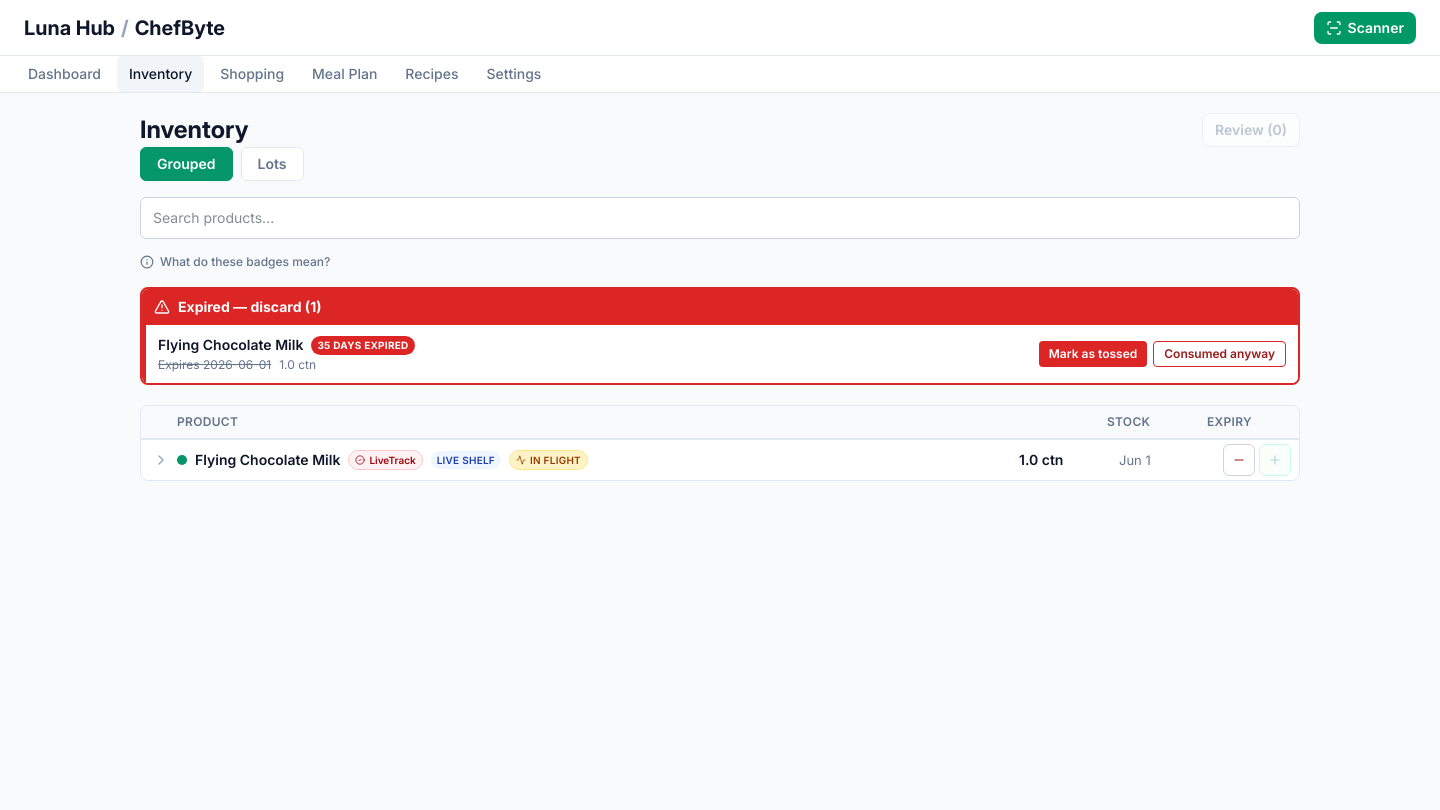
Test case: CloseInFlightModal — badge → modal flow › on RPC error: modal stays open and error message is rendered
The image size is (1440, 810).
Expected: the element with test id "inv-product-prod-flying" is shown, [141,440,1299,480]
Click the button with test id "inflight-badge".
click(548, 460)  # box [509,450,588,470]
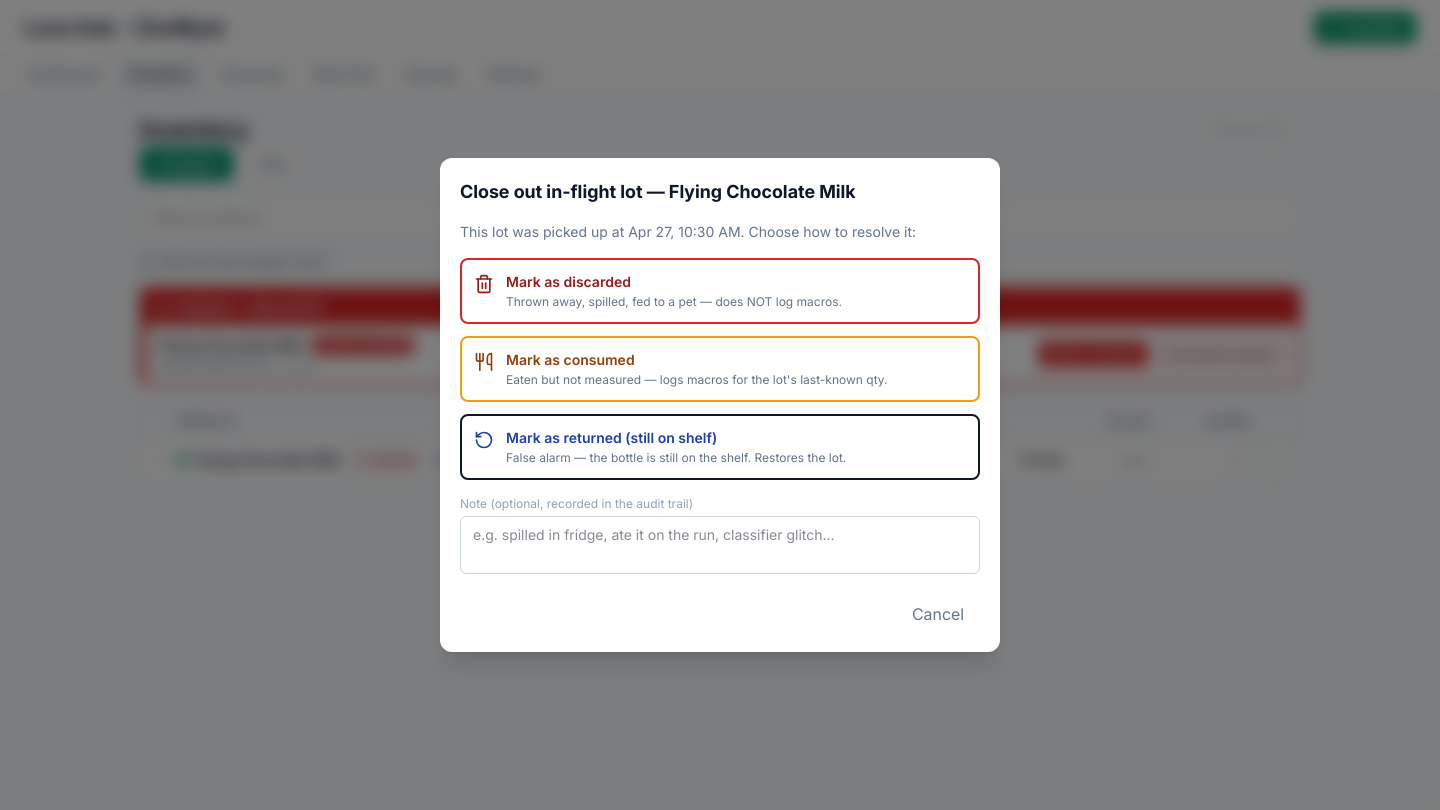
Expected: the element with test id "close-in-flight-modal" is shown
Click the button with test id "close-modal-discarded".
click(720, 291)  # box [460,258,980,324]
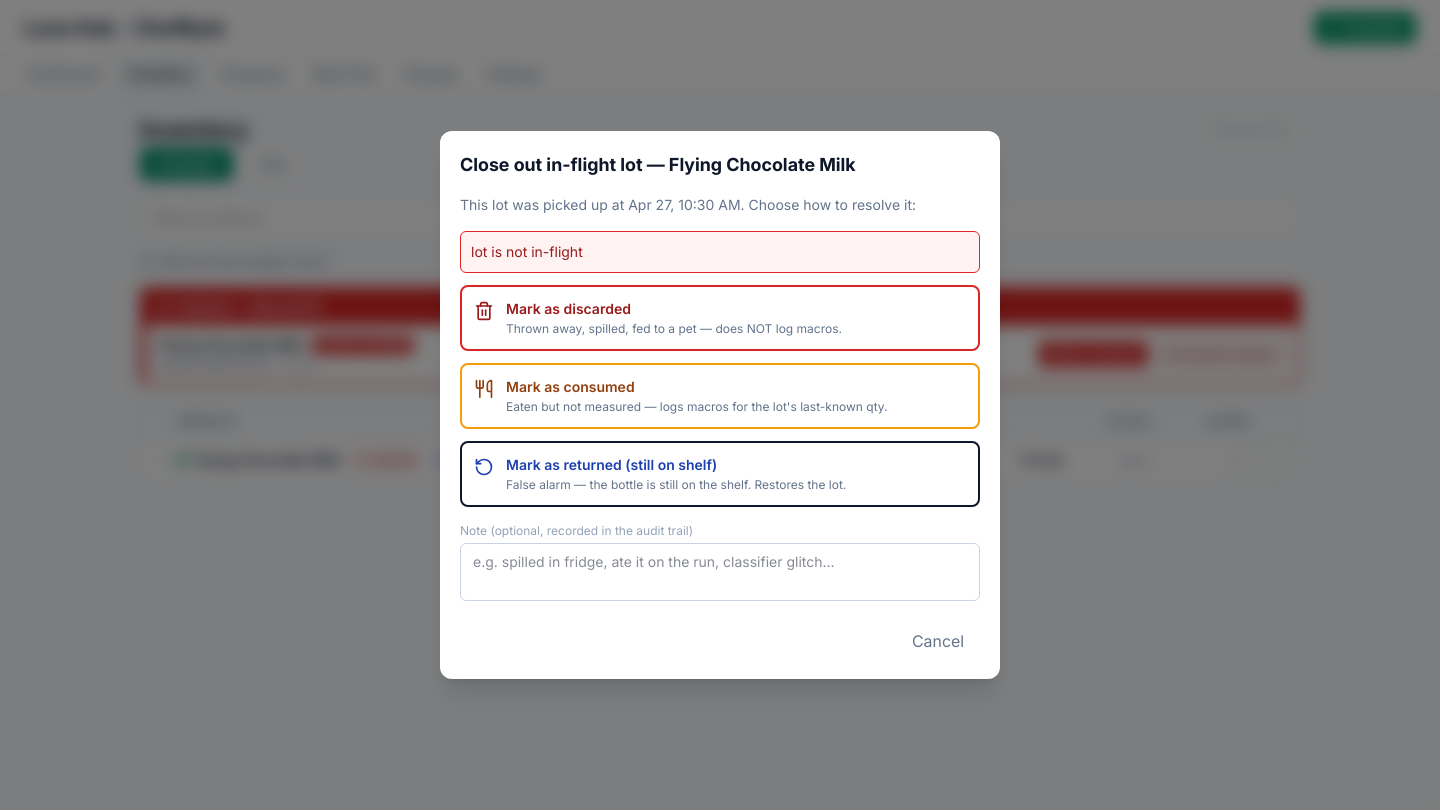
Expected: the element with test id "close-in-flight-modal" is shown
Expected: the message with test id "close-modal-error" reads "lot is not in-flight", [471,243,583,260]
